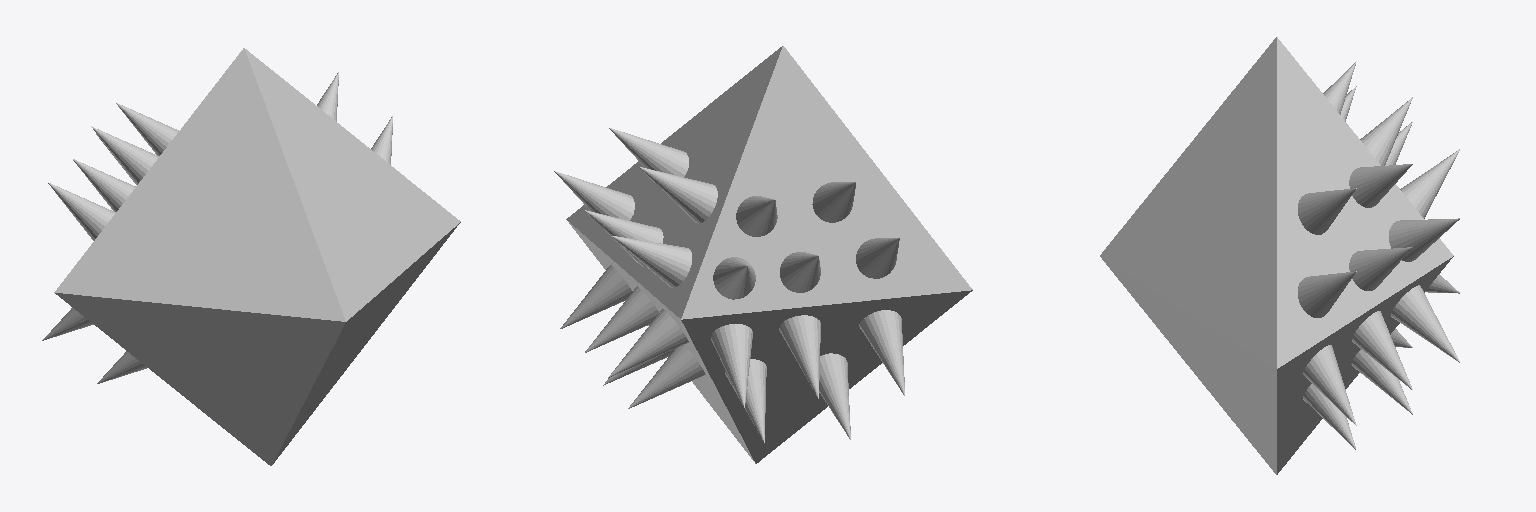
File: tail1.obj
The picture shows the model from 3 angles: view 1: azimuth 30°, elevation 25°; view 2: azimuth 150°, elevation 25°; view 3: azimuth 270°, elevation 25°; orthographic projection.
Parts seen in each view (by area): view 1: mergedBlocks; view 2: mergedBlocks; view 3: mergedBlocks.
Part boxes in pixels (bbox=[...]): mergedBlocks: bbox=[42, 48, 460, 465]; mergedBlocks: bbox=[554, 46, 972, 463]; mergedBlocks: bbox=[1100, 37, 1459, 474].
Bounding box in the file's own units: 1.06 × 1.06 × 0.8147.